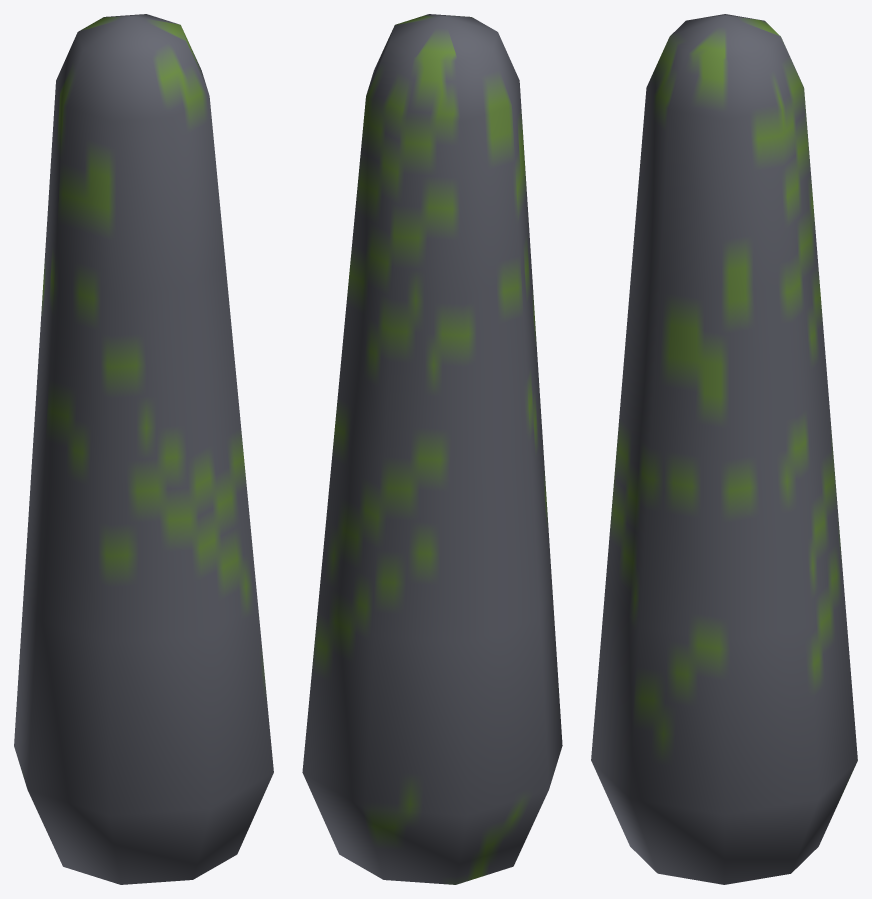
The model's file is prop_menhirfalse_c9ed.glb.
3 renders of one model, left to right at view 1: azimuth 30°, elevation 25°; view 2: azimuth 150°, elevation 25°; view 3: azimuth 270°, elevation 25°, orthographic.
Parts seen in each view (by area): view 1: prop_menhirfalse_c9ed; view 2: prop_menhirfalse_c9ed; view 3: prop_menhirfalse_c9ed.
Boxes of the visible parts, x1,y1,x2,y2 form: prop_menhirfalse_c9ed: [14, 14, 273, 884]; prop_menhirfalse_c9ed: [302, 14, 562, 884]; prop_menhirfalse_c9ed: [591, 14, 857, 884].
Bounding box in the file's own units: 0.3889 × 1.38 × 0.389.
1 material, 1 textured.
